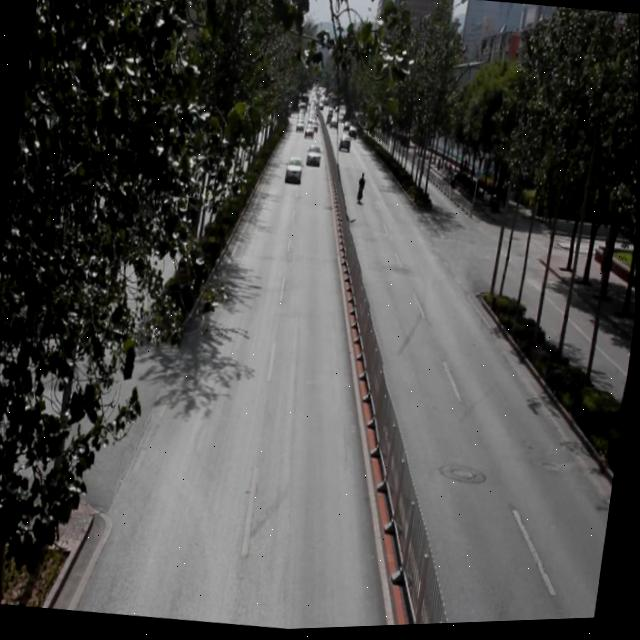car: (284, 159, 303, 183), (305, 146, 322, 166)
